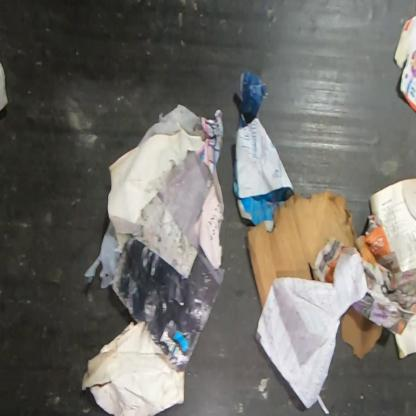cardboard: (245, 188, 359, 312), (393, 12, 416, 113)
soft_plastic: (144, 150, 216, 254), (137, 103, 198, 150), (83, 218, 122, 290)
